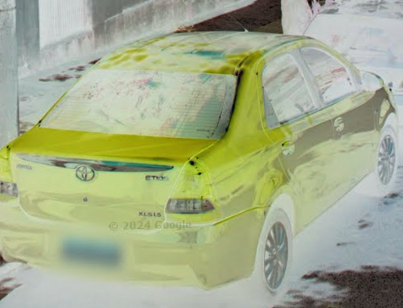car: (1, 31, 398, 296)
